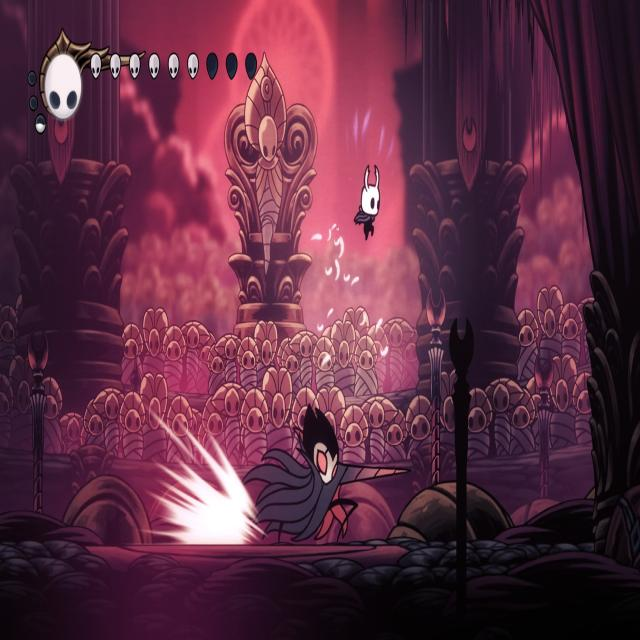Dive Dash: (238, 392, 414, 541)
Player: (352, 160, 382, 244)
